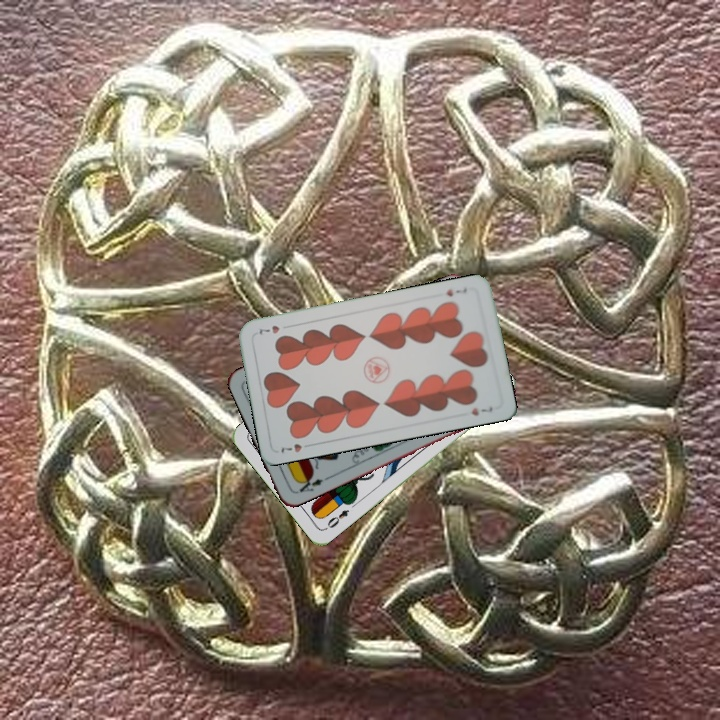EA: (292, 472, 326, 496)
EO: (321, 505, 352, 532)
H7: (276, 439, 315, 455), (442, 284, 470, 299)
